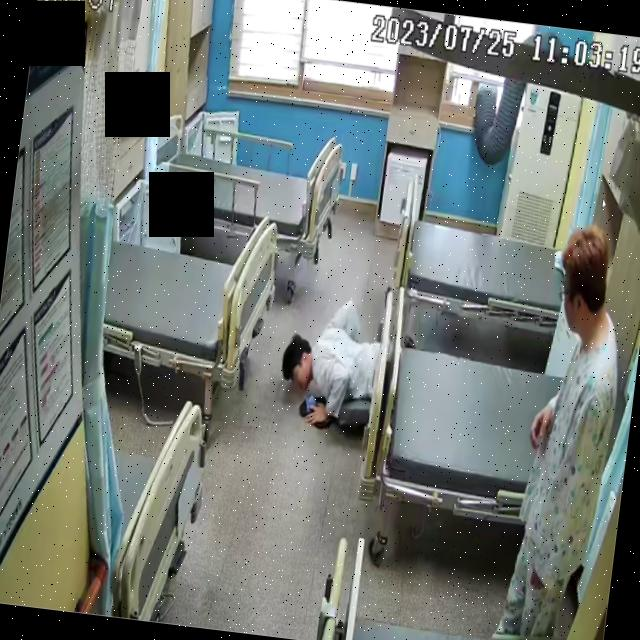bed: (355, 282, 632, 535), (388, 163, 591, 341), (99, 202, 282, 386), (162, 122, 342, 258)
fall: (275, 292, 399, 434)
patient: (493, 224, 636, 640), (274, 290, 404, 437)
